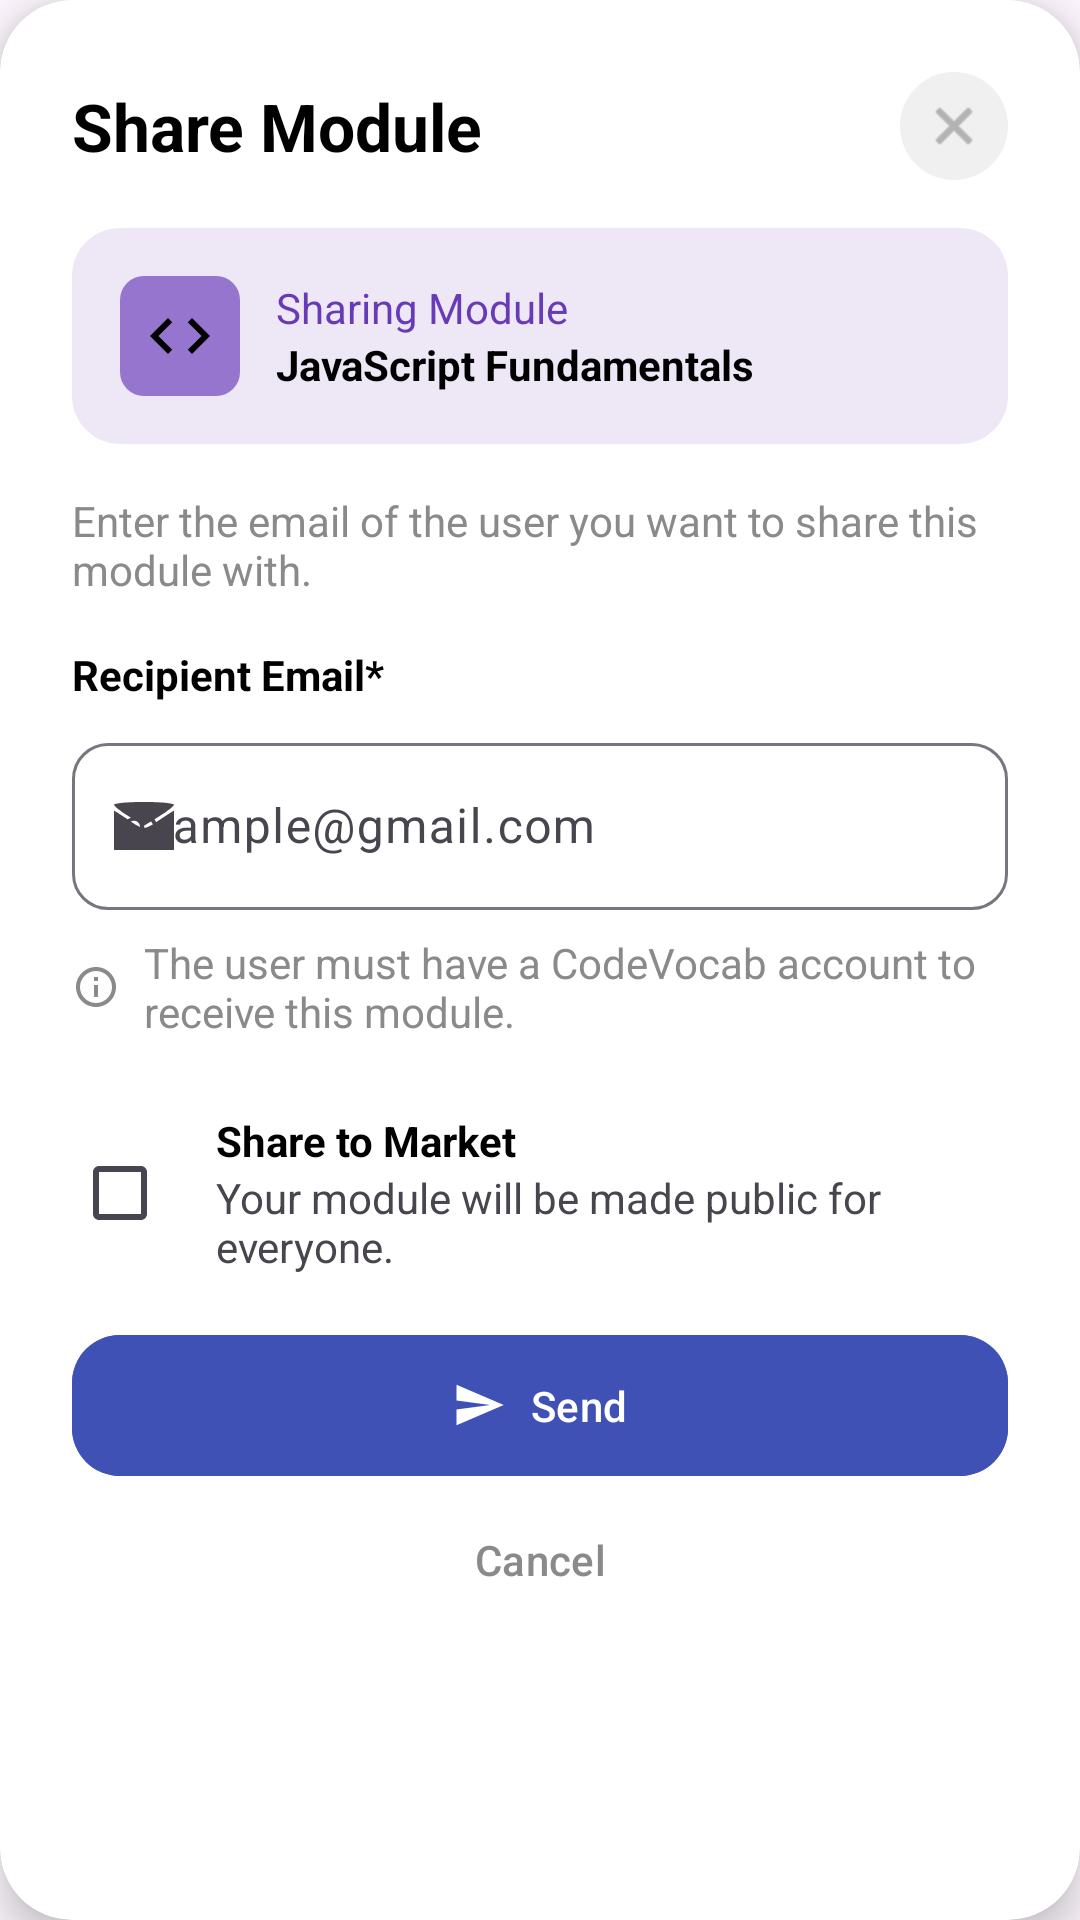

Locate icon controls on the screen. Image size 1080x1920, boxes as (x1, y1, x2, y2).
close clear cancel: (900, 72, 1008, 180)
code: (120, 276, 240, 396)
info: (76, 967, 116, 1007)
